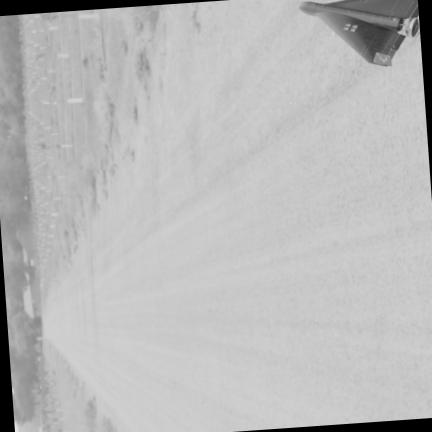Shahed: (297, 0, 419, 64)
